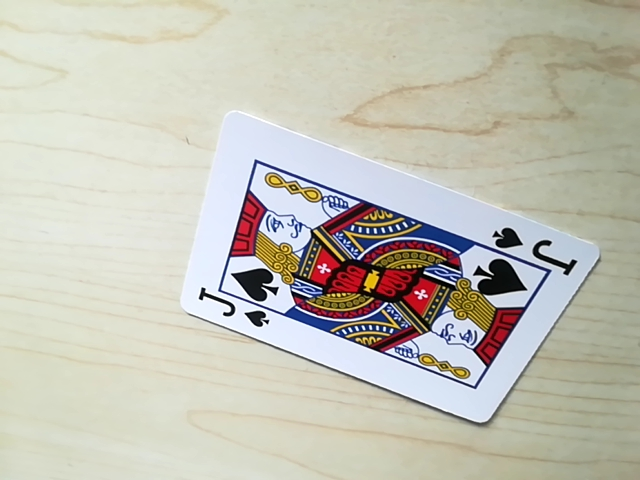ht j: (484, 221, 576, 264), (197, 295, 271, 331)
